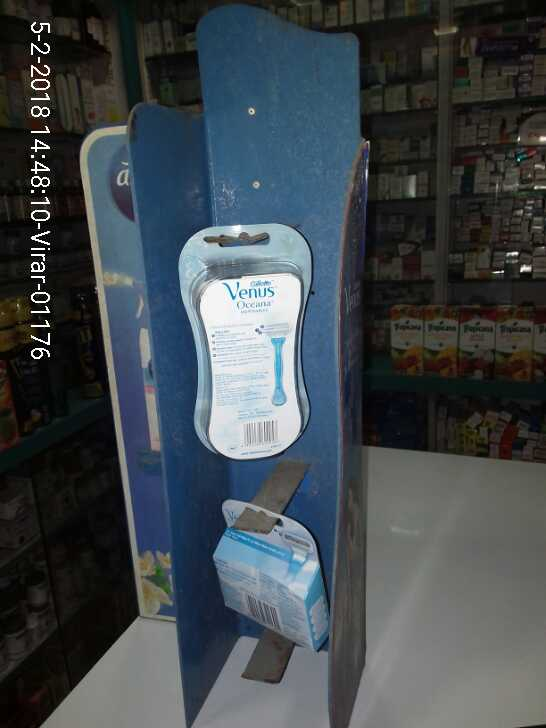reject: (172, 311, 286, 410)
